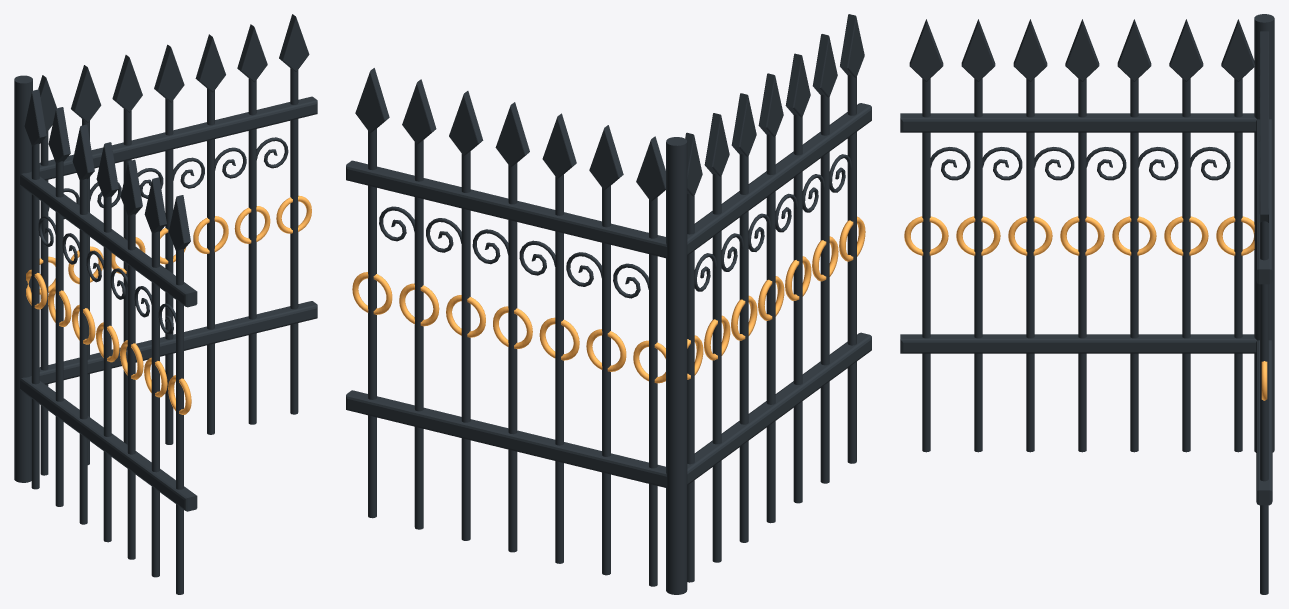
The model's file is hollowwick-halloween-scroll-fence-corner-a81f5970__21632.glb.
3 views of the same model, side by side, from view 1: azimuth 30°, elevation 25°; view 2: azimuth 150°, elevation 25°; view 3: azimuth 270°, elevation 25° (orthographic). The views are drawn at different scales.
Visible parts, largest first — view 1: scroll-fence-corner; view 2: scroll-fence-corner; view 3: scroll-fence-corner.
Part boxes in pixels (x1,y1,x2,y2): scroll-fence-corner: (14, 14, 317, 594); scroll-fence-corner: (346, 14, 871, 594); scroll-fence-corner: (900, 14, 1274, 594).
Size of the model in its own units: 1.03 by 1.31 by 1.03.
